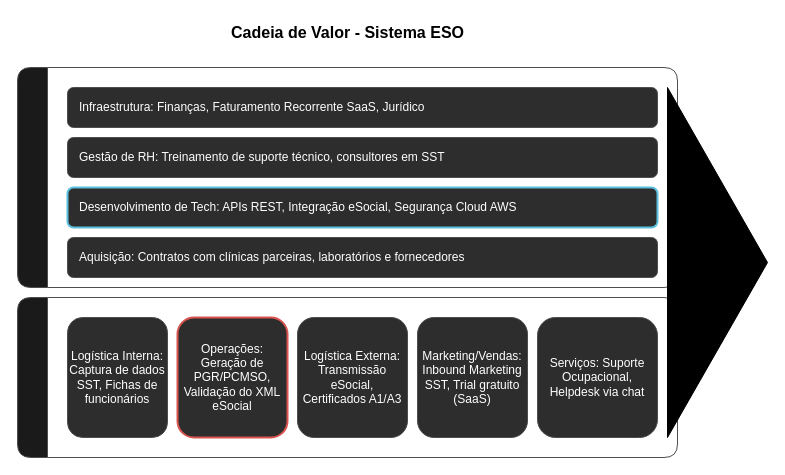
Image size: 785x475. Some labels were removed from this diagram. Each missing label, with the box of its shape:
ATIVIDADES DE SUPORTE: (16, 66, 678, 288)
ATIVIDADES PRIMÁRIAS: (16, 296, 678, 458)
MARGEM: (666, 86, 768, 438)
